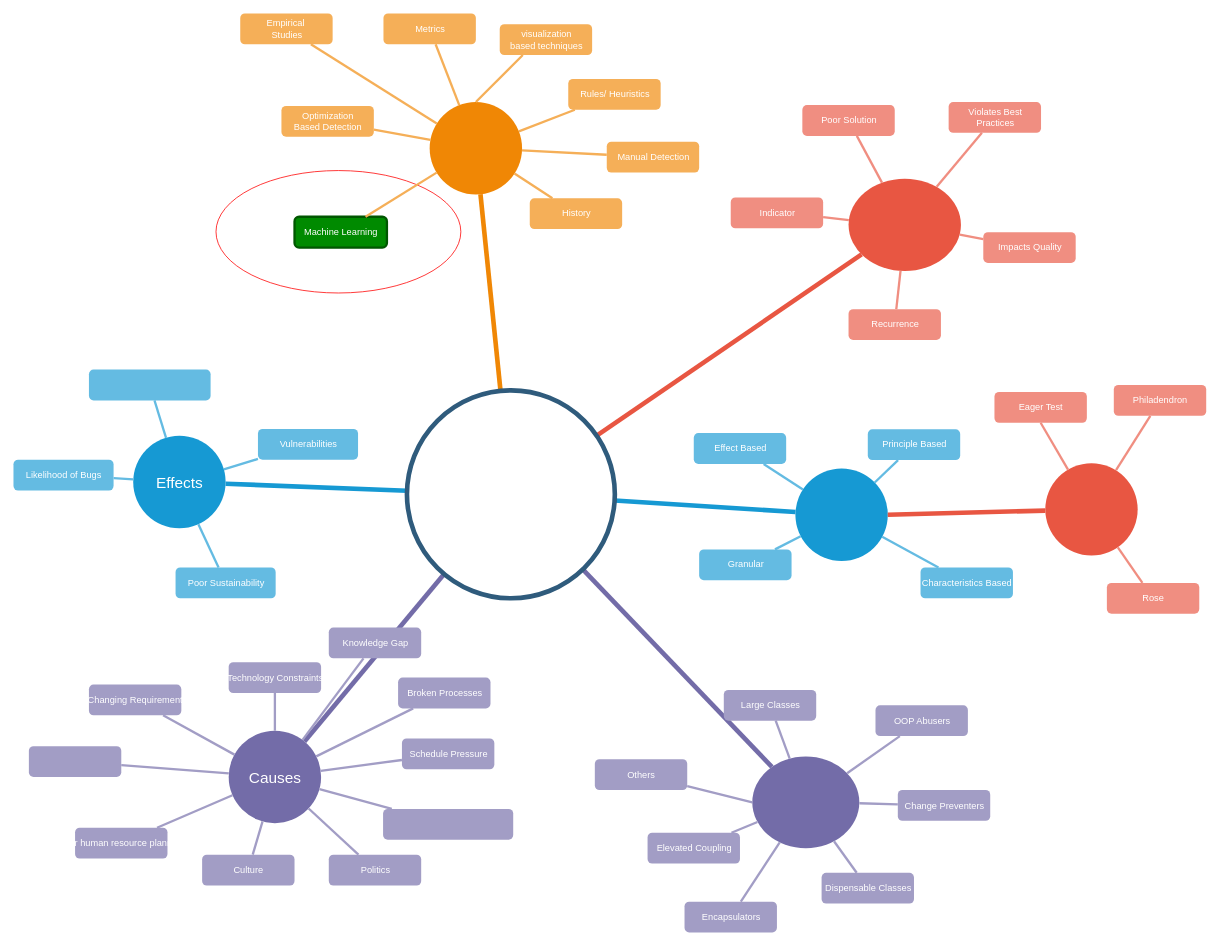
This 1219x946 diagram has some shape labels left out. The box of each missing label's shape, as (x1, y1, x2, y2) in pixels:
Categorization: (752, 756, 859, 848)
Characteristics: (848, 178, 961, 271)
Code Smells / Anti-Patterns: (404, 388, 617, 600)
Detection Methods: (429, 102, 522, 194)
Increased sustainment cost: (89, 369, 210, 400)
Lack of Skill: (28, 746, 121, 777)
Prioritize Features over quality: (383, 808, 513, 839)
Test Smells: (1045, 463, 1137, 555)
Types: (795, 468, 887, 561)
